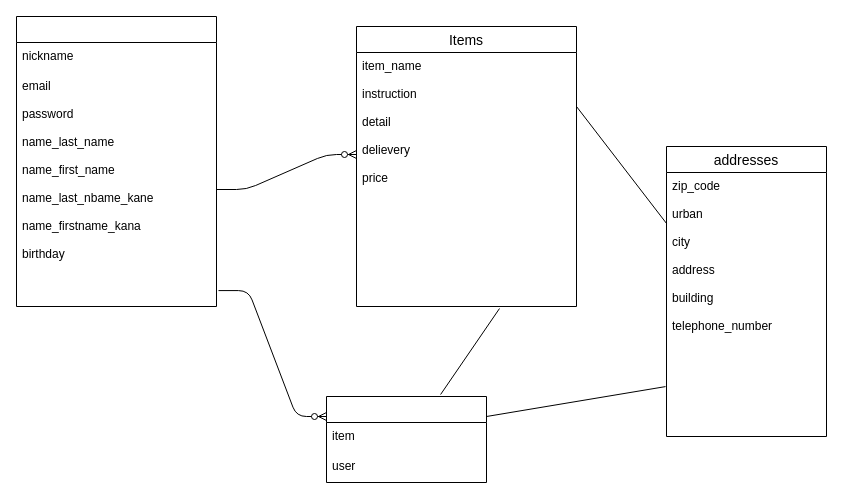
This 843x499 diagram has some shape labels left out. Each missing label, with the box of its shape:
records: (326, 396, 486, 482)
Users: (16, 16, 216, 306)
